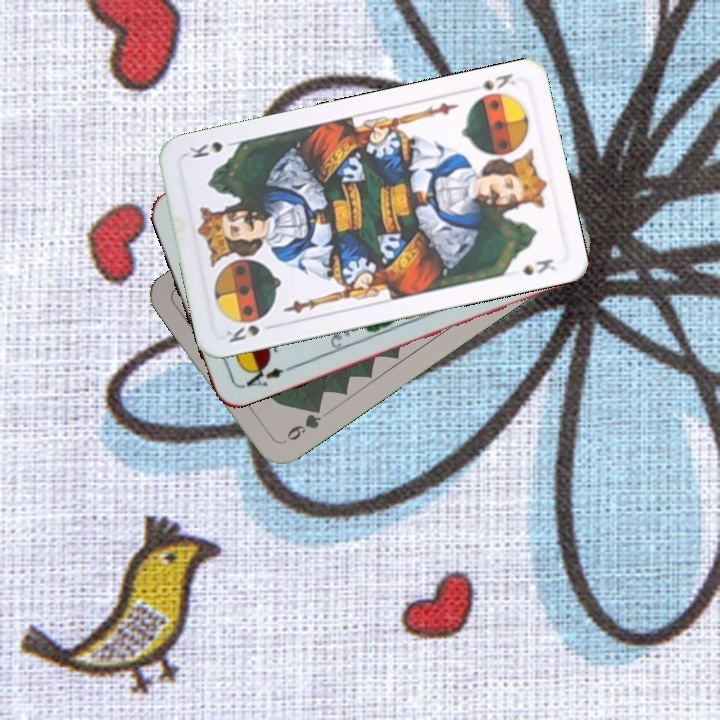EA: (238, 359, 295, 391)
G9: (277, 401, 324, 447)
SK: (222, 320, 279, 346), (478, 69, 518, 93)
